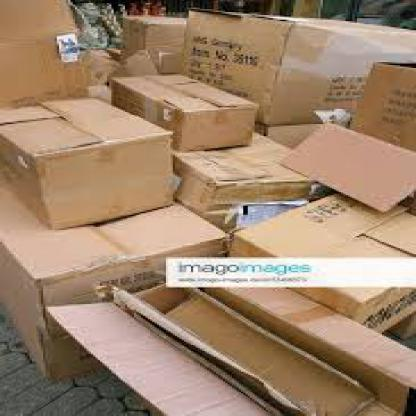CARDBOARD: (109, 277, 377, 414), (204, 286, 414, 414), (39, 235, 225, 376), (41, 301, 266, 415), (0, 97, 168, 228), (268, 15, 414, 127), (168, 128, 325, 223), (0, 164, 123, 282), (34, 132, 173, 228), (275, 119, 414, 212), (182, 8, 293, 124), (225, 190, 414, 256), (0, 0, 114, 108), (107, 71, 254, 147), (121, 198, 225, 288), (346, 59, 414, 151), (39, 97, 159, 145), (0, 239, 43, 372), (291, 286, 414, 331), (70, 0, 166, 55), (111, 74, 214, 118), (0, 136, 48, 223), (148, 72, 252, 110), (2, 115, 100, 153), (173, 106, 250, 147), (270, 14, 412, 30), (0, 103, 57, 127), (386, 313, 414, 336)
